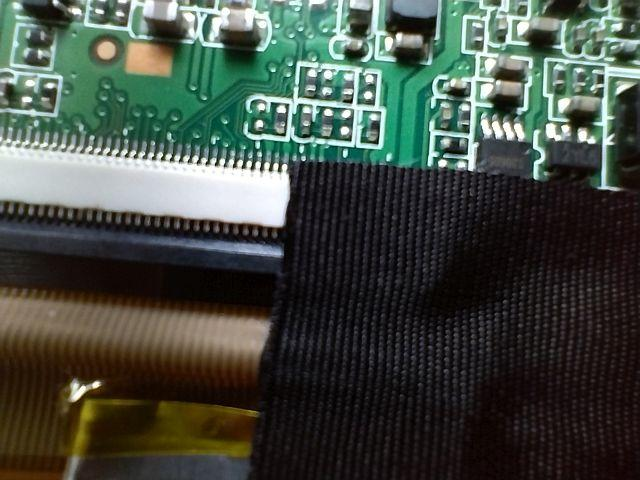capacitor: (469, 77, 529, 109)
resistor: (242, 88, 272, 138), (360, 110, 387, 147), (431, 132, 471, 156)
